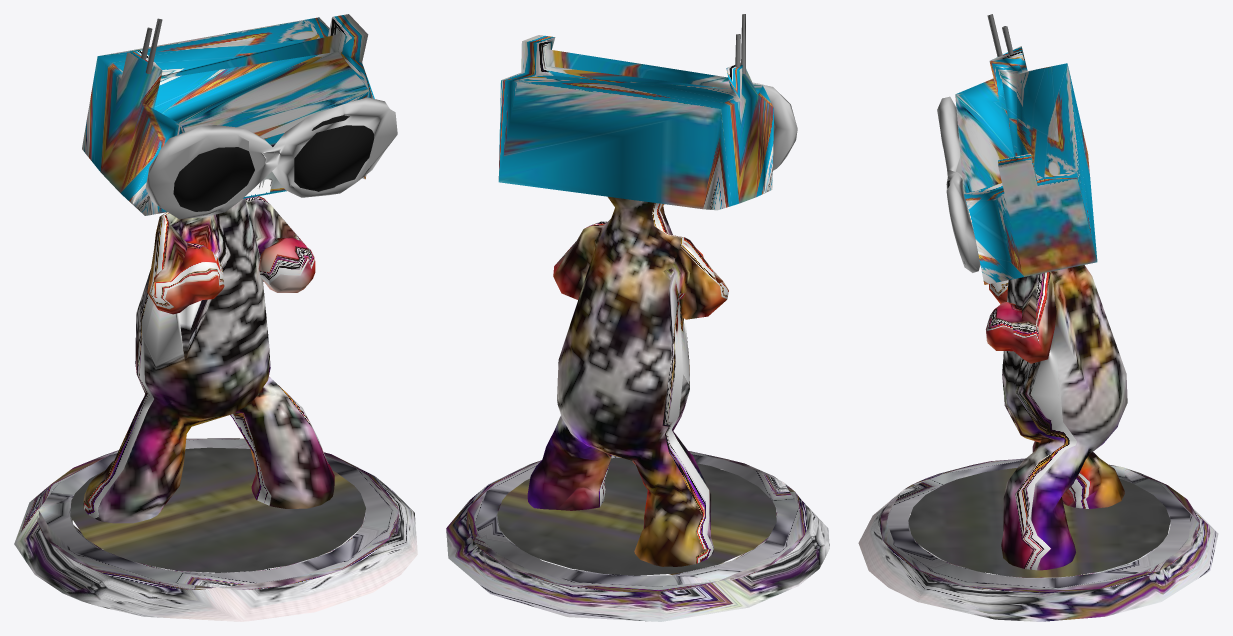
3 views of the same model, side by side, from view 1: azimuth 30°, elevation 25°; view 2: azimuth 150°, elevation 25°; view 3: azimuth 270°, elevation 25° (orthographic). The views are drawn at different scales.
Bounding box in the file's own units: 1.45 × 2.18 × 1.44.
Materials: 9 (4 with a texture image).
